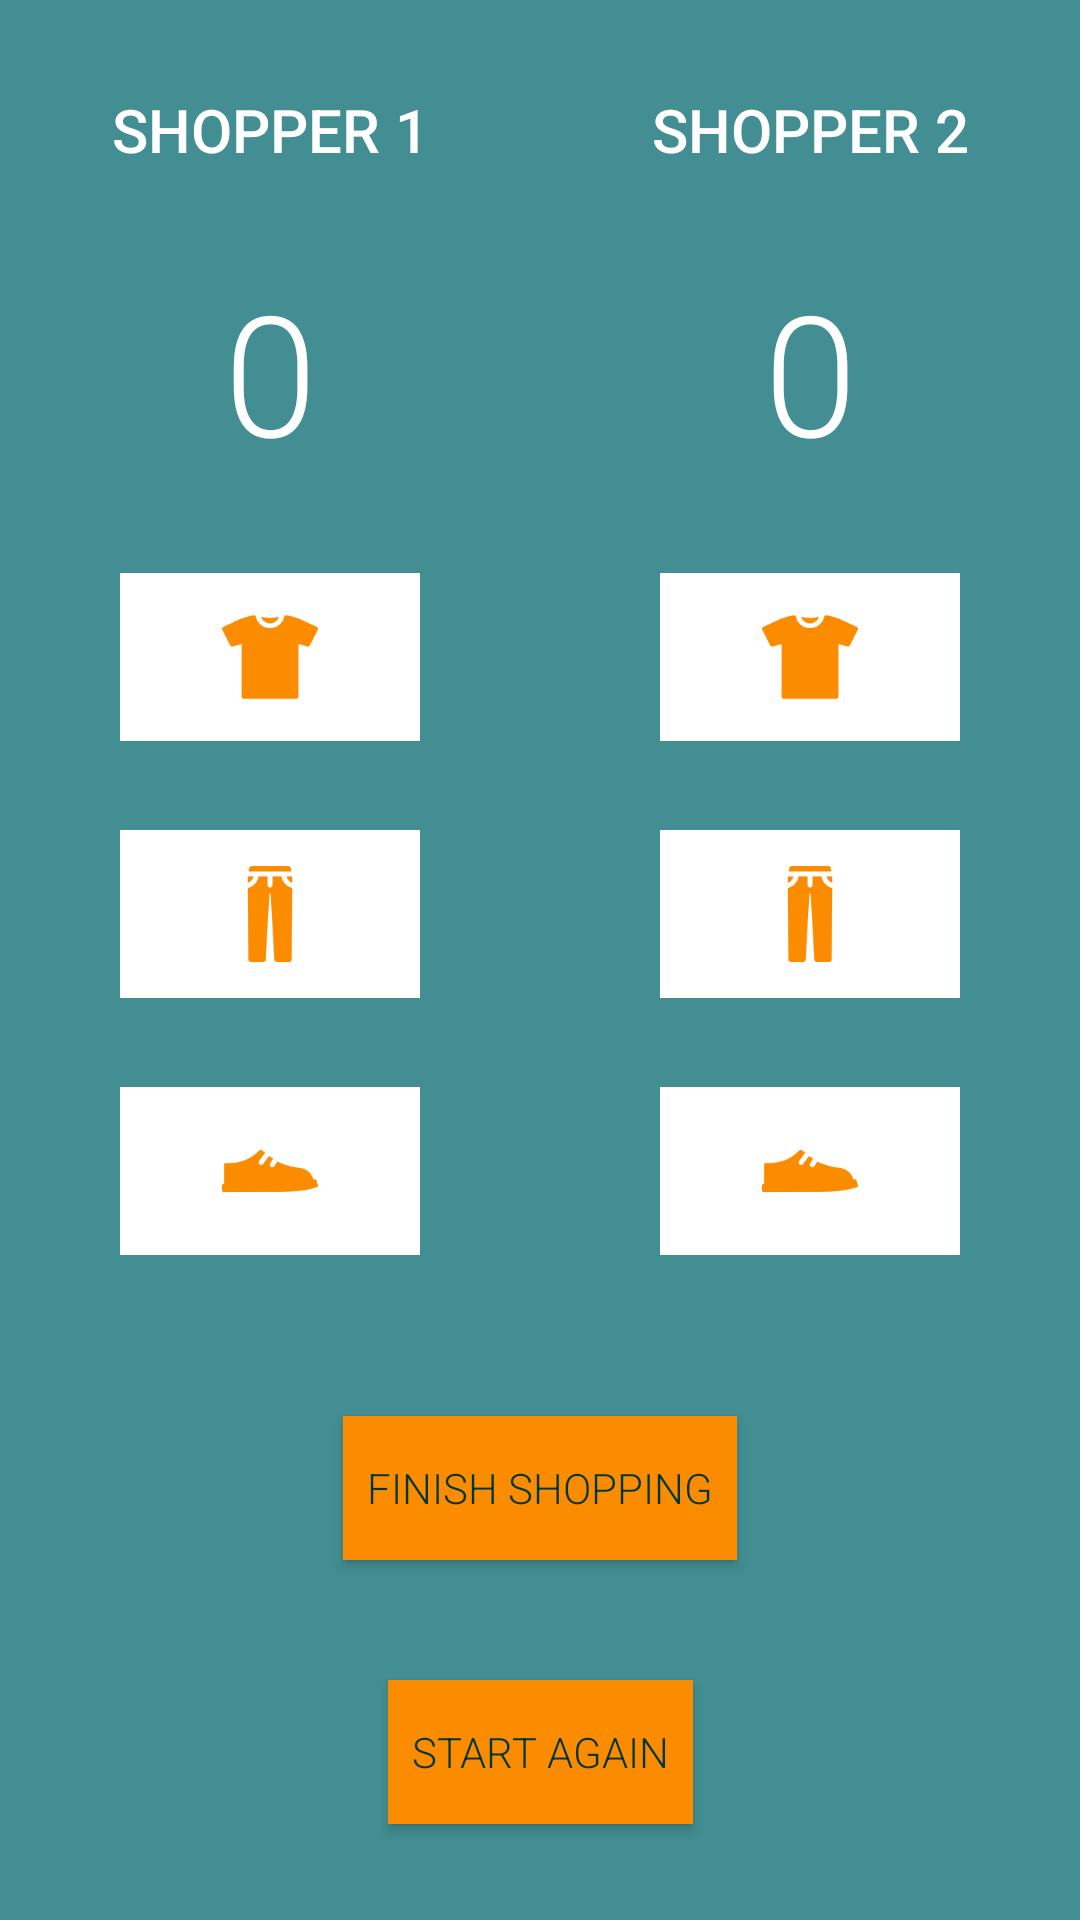

Where icons sit on this 1080px×1920px app screen, as (x1, y1, x2, y2):
shoes icon: (120, 1087, 420, 1255), (660, 1087, 960, 1255)
trousers icon: (120, 830, 420, 998), (660, 830, 960, 998)
tshirt icon: (120, 573, 420, 741), (660, 573, 960, 741)
